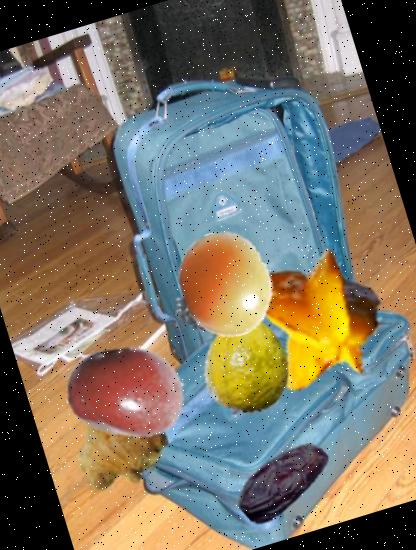Carambula: (228, 226, 414, 414)
Cherry: (51, 319, 200, 468), (159, 216, 294, 352)
Dates: (220, 417, 347, 544)
Ginger: (43, 368, 180, 504)
Guava: (185, 301, 308, 424)
Mulberry: (165, 261, 251, 347)
